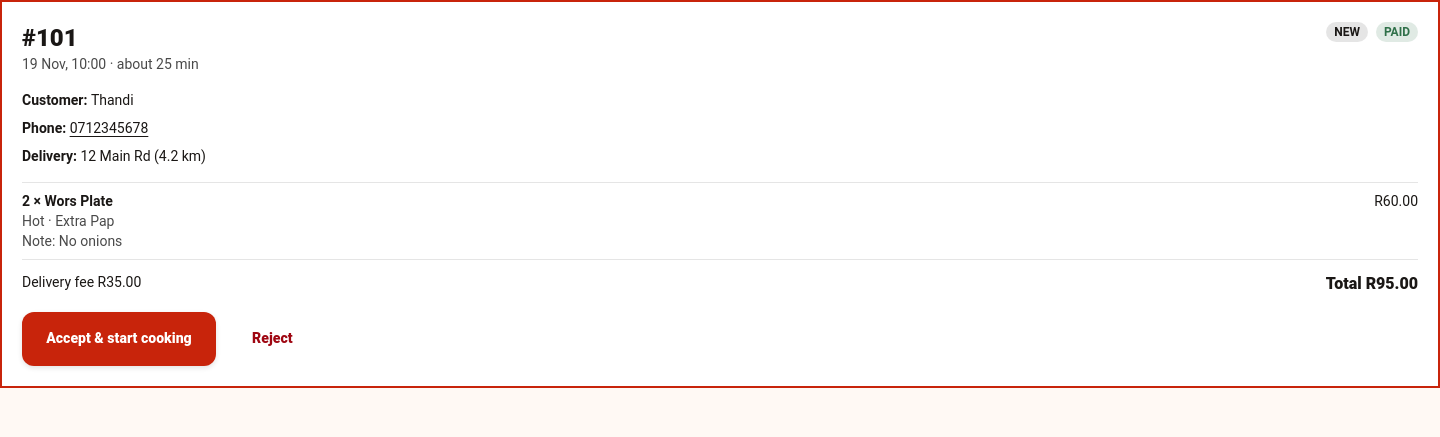
Scenario: orders page › reloads and explains when the order already moved on
Step 1. Click the button "Accept & start cooking" → x=119, y=339, box [22, 312, 216, 366]
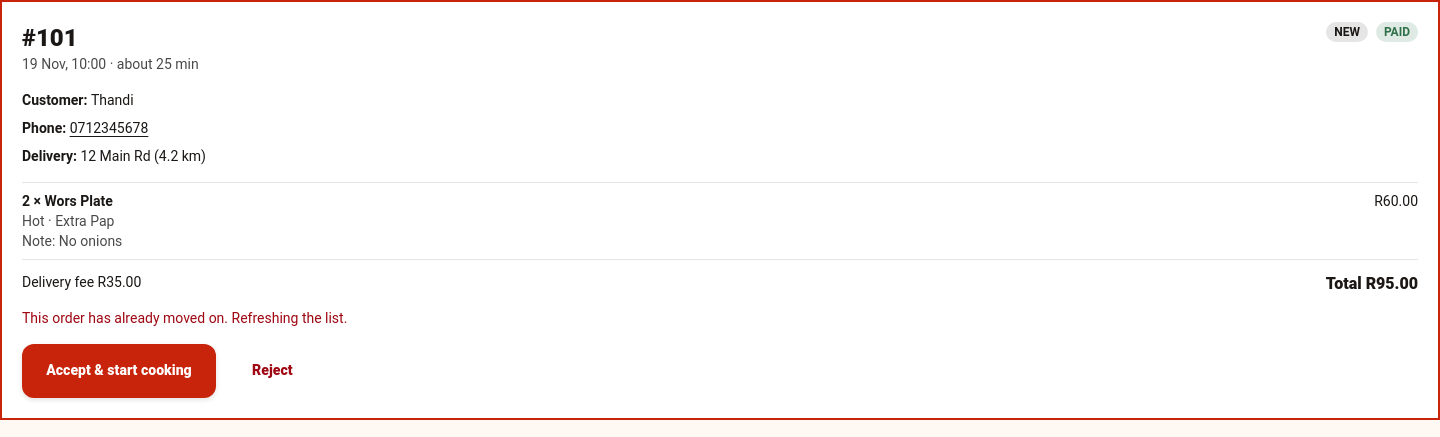
Expected: the message shows "already moved on", [22, 310, 347, 326]
